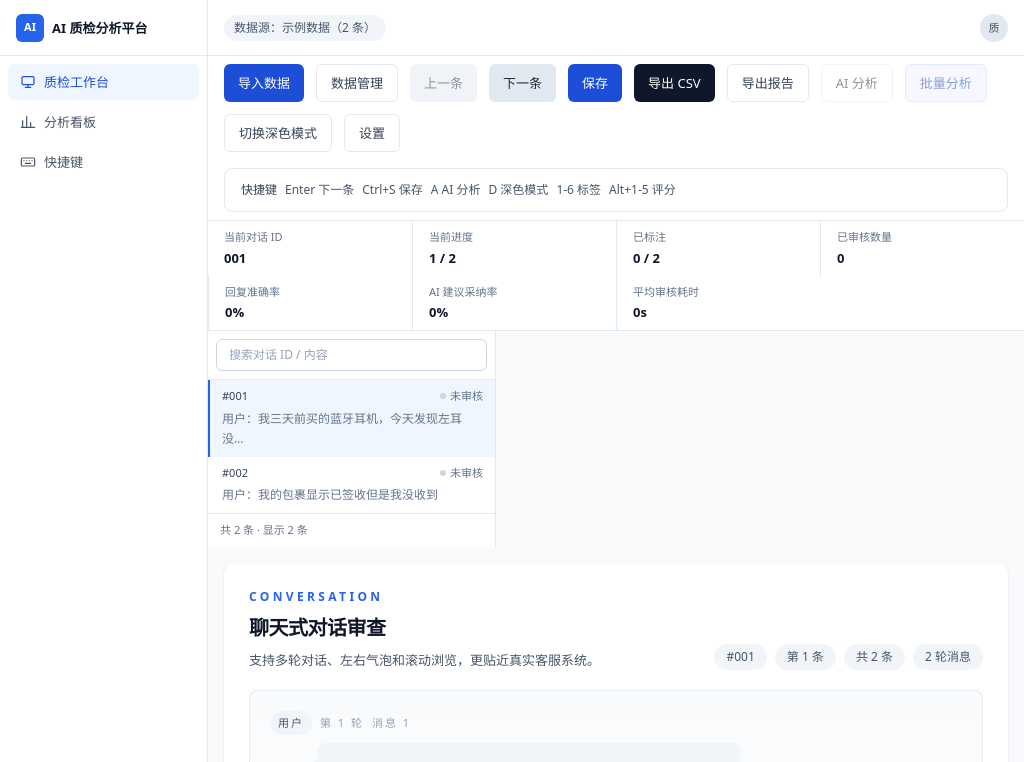
Test: 数据管理页 › 点击「数据管理」→ 打开 dialog，展示概览统计与全部对话
Expected: the button "导出报告" is shown, x1=727 y1=64 x2=809 y2=102
What coordinates should you click on to do the following:
click the button "数据管理"
I would click on:
 (357, 83)
Its box is x1=316 y1=64 x2=398 y2=102.
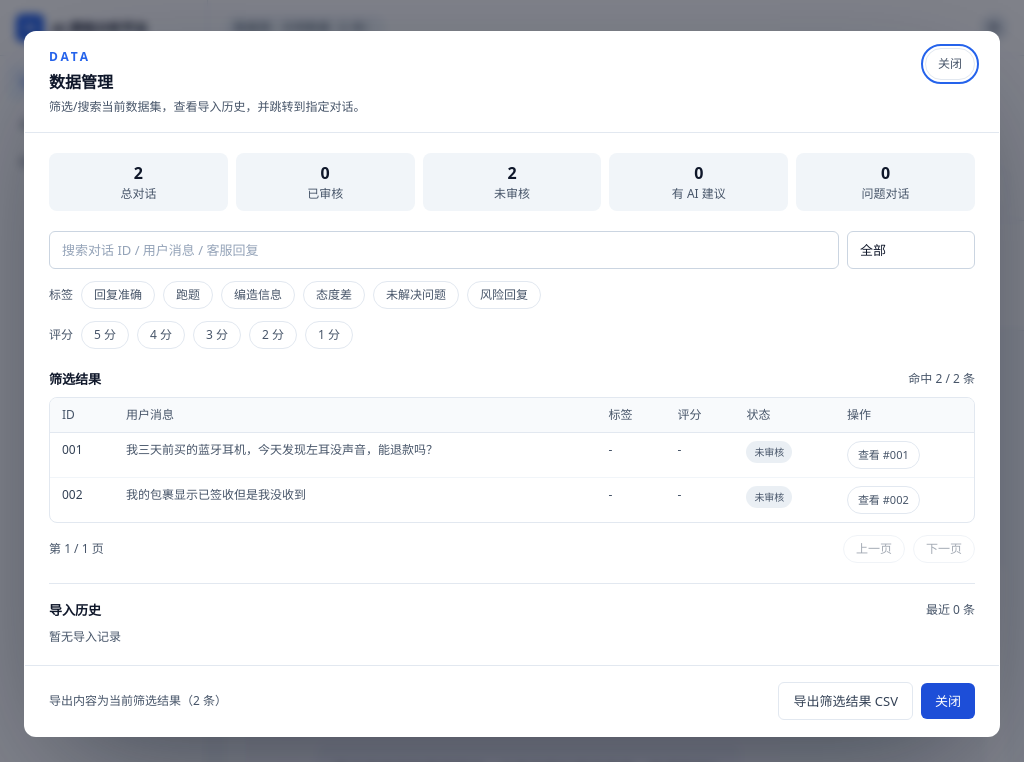
Expected: the heading "数据管理" is shown, x1=49 y1=71 x2=113 y2=93
Expected: the text "总对话" is shown, x1=120 y1=185 x2=156 y2=202
Expected: the text "命中 2 / 2 条" is shown, x1=908 y1=370 x2=975 y2=388
